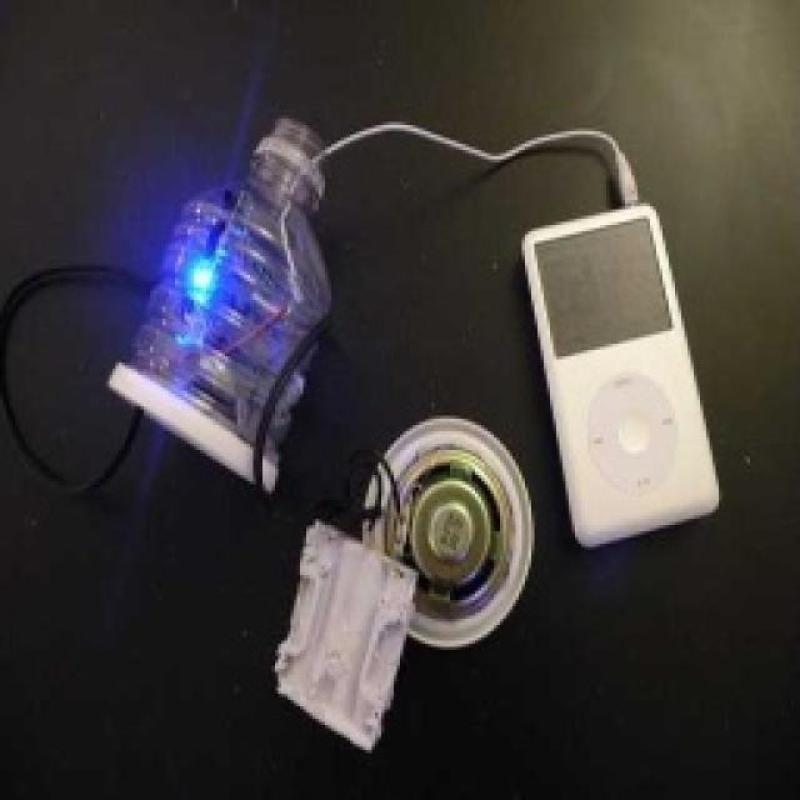botella: (125, 117, 331, 471)
